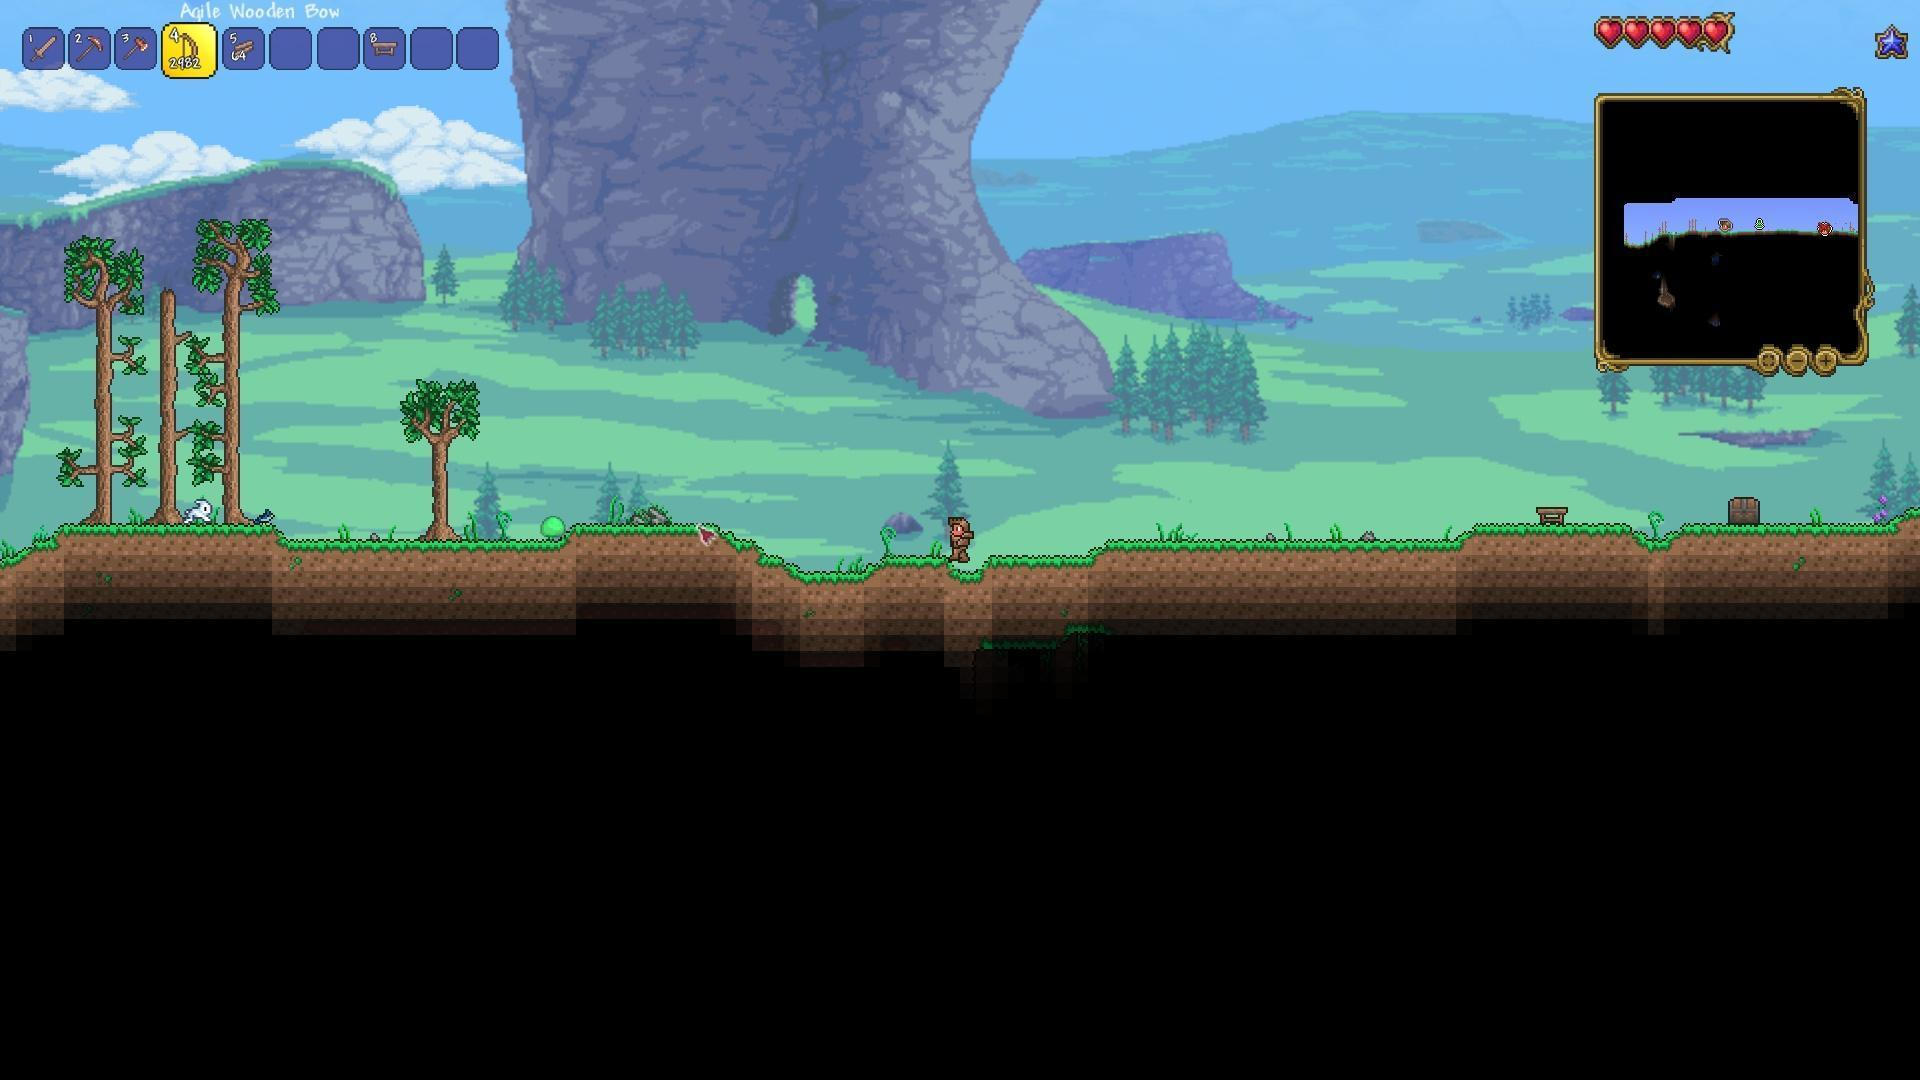slime: (541, 514, 567, 537)
wood: (228, 33, 260, 63)
workbench: (367, 37, 404, 62), (1534, 504, 1571, 529)
